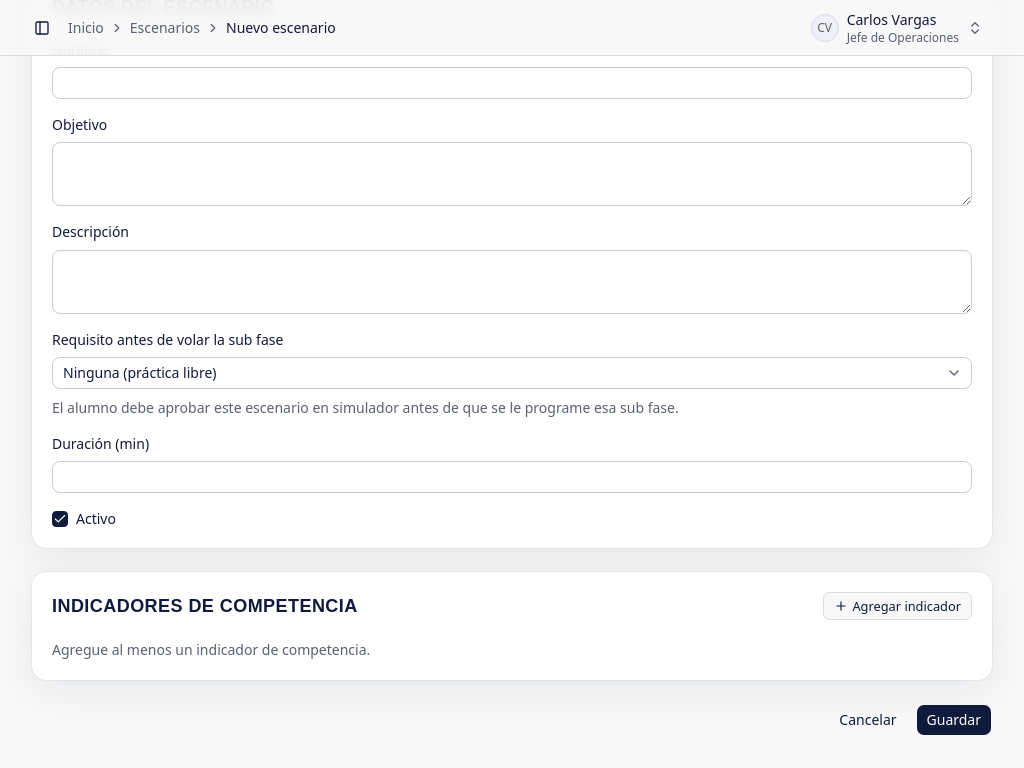
Test case: Escenarios › exige el nombre del escenario
The width and height of the screenshot is (1024, 768).
(page scrolled)
Click the button "Guardar": (954, 720) [916, 704, 992, 736]
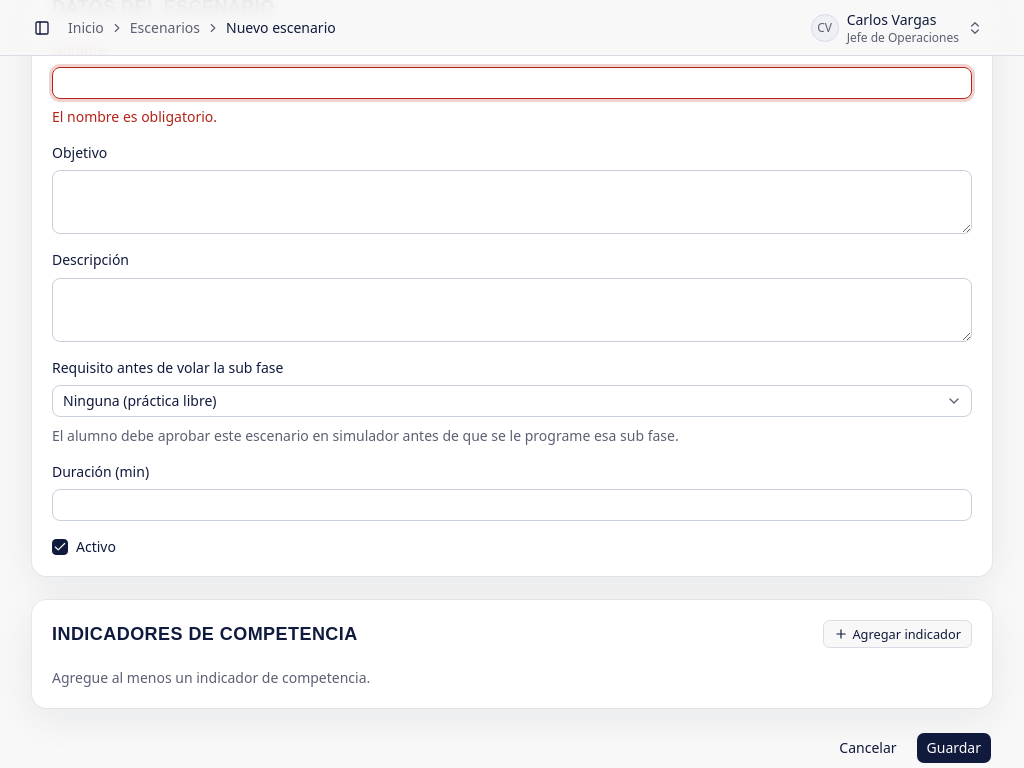
Result: the text "El nombre es obligatorio." is shown at [52, 107, 217, 126]
